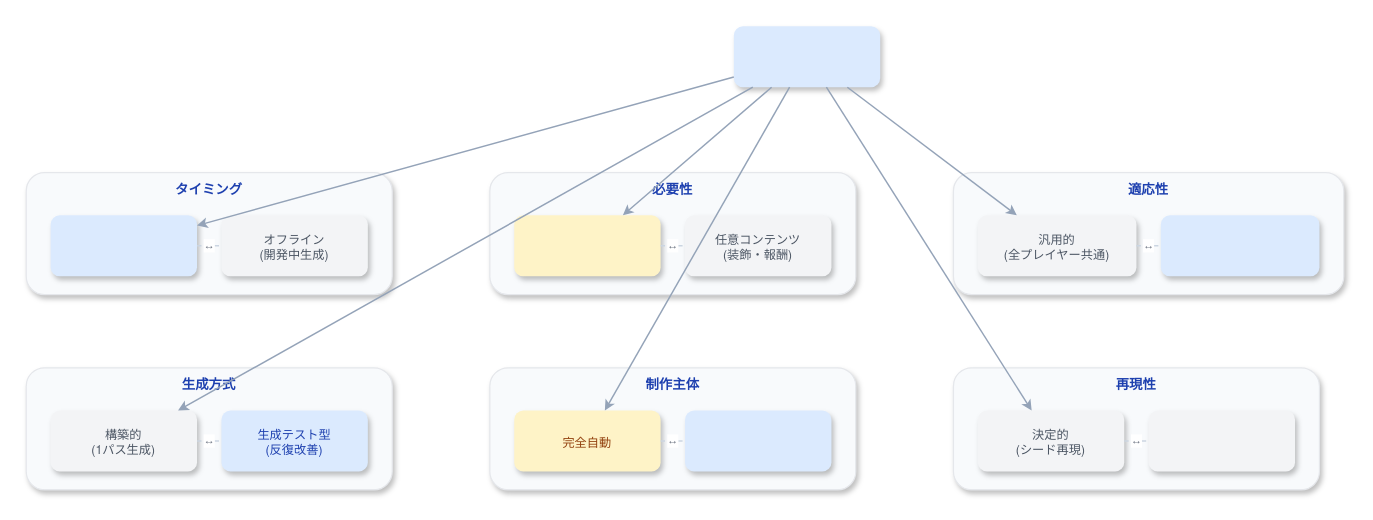
The diagram is 1373 pixels wide and 520 high, and some of its shapes have lost their labels. The shapes that lost their labels are listed below. From the top down, each one's centre as x and y in pixels, then its label:
At point (807, 58): "PCG 分類体系".
At point (124, 247): "オンライン (プレイ中生成)".
At point (588, 247): "必須コンテンツ (レベル構造)".
At point (1240, 247): "プレイヤー適応型 (個別最適化)".
At point (759, 442): "混合オーサリング (人間+AI協働)".
At point (1222, 442): "確率的 (毎回異なる)".
